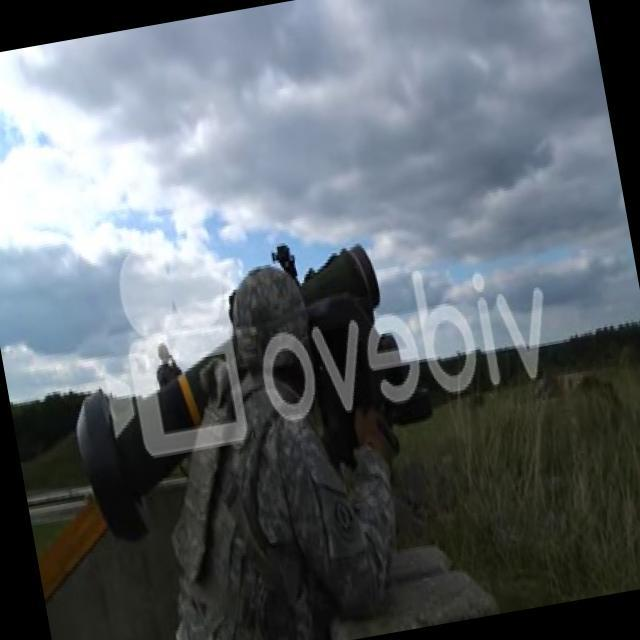rocket: (56, 246, 409, 544)
